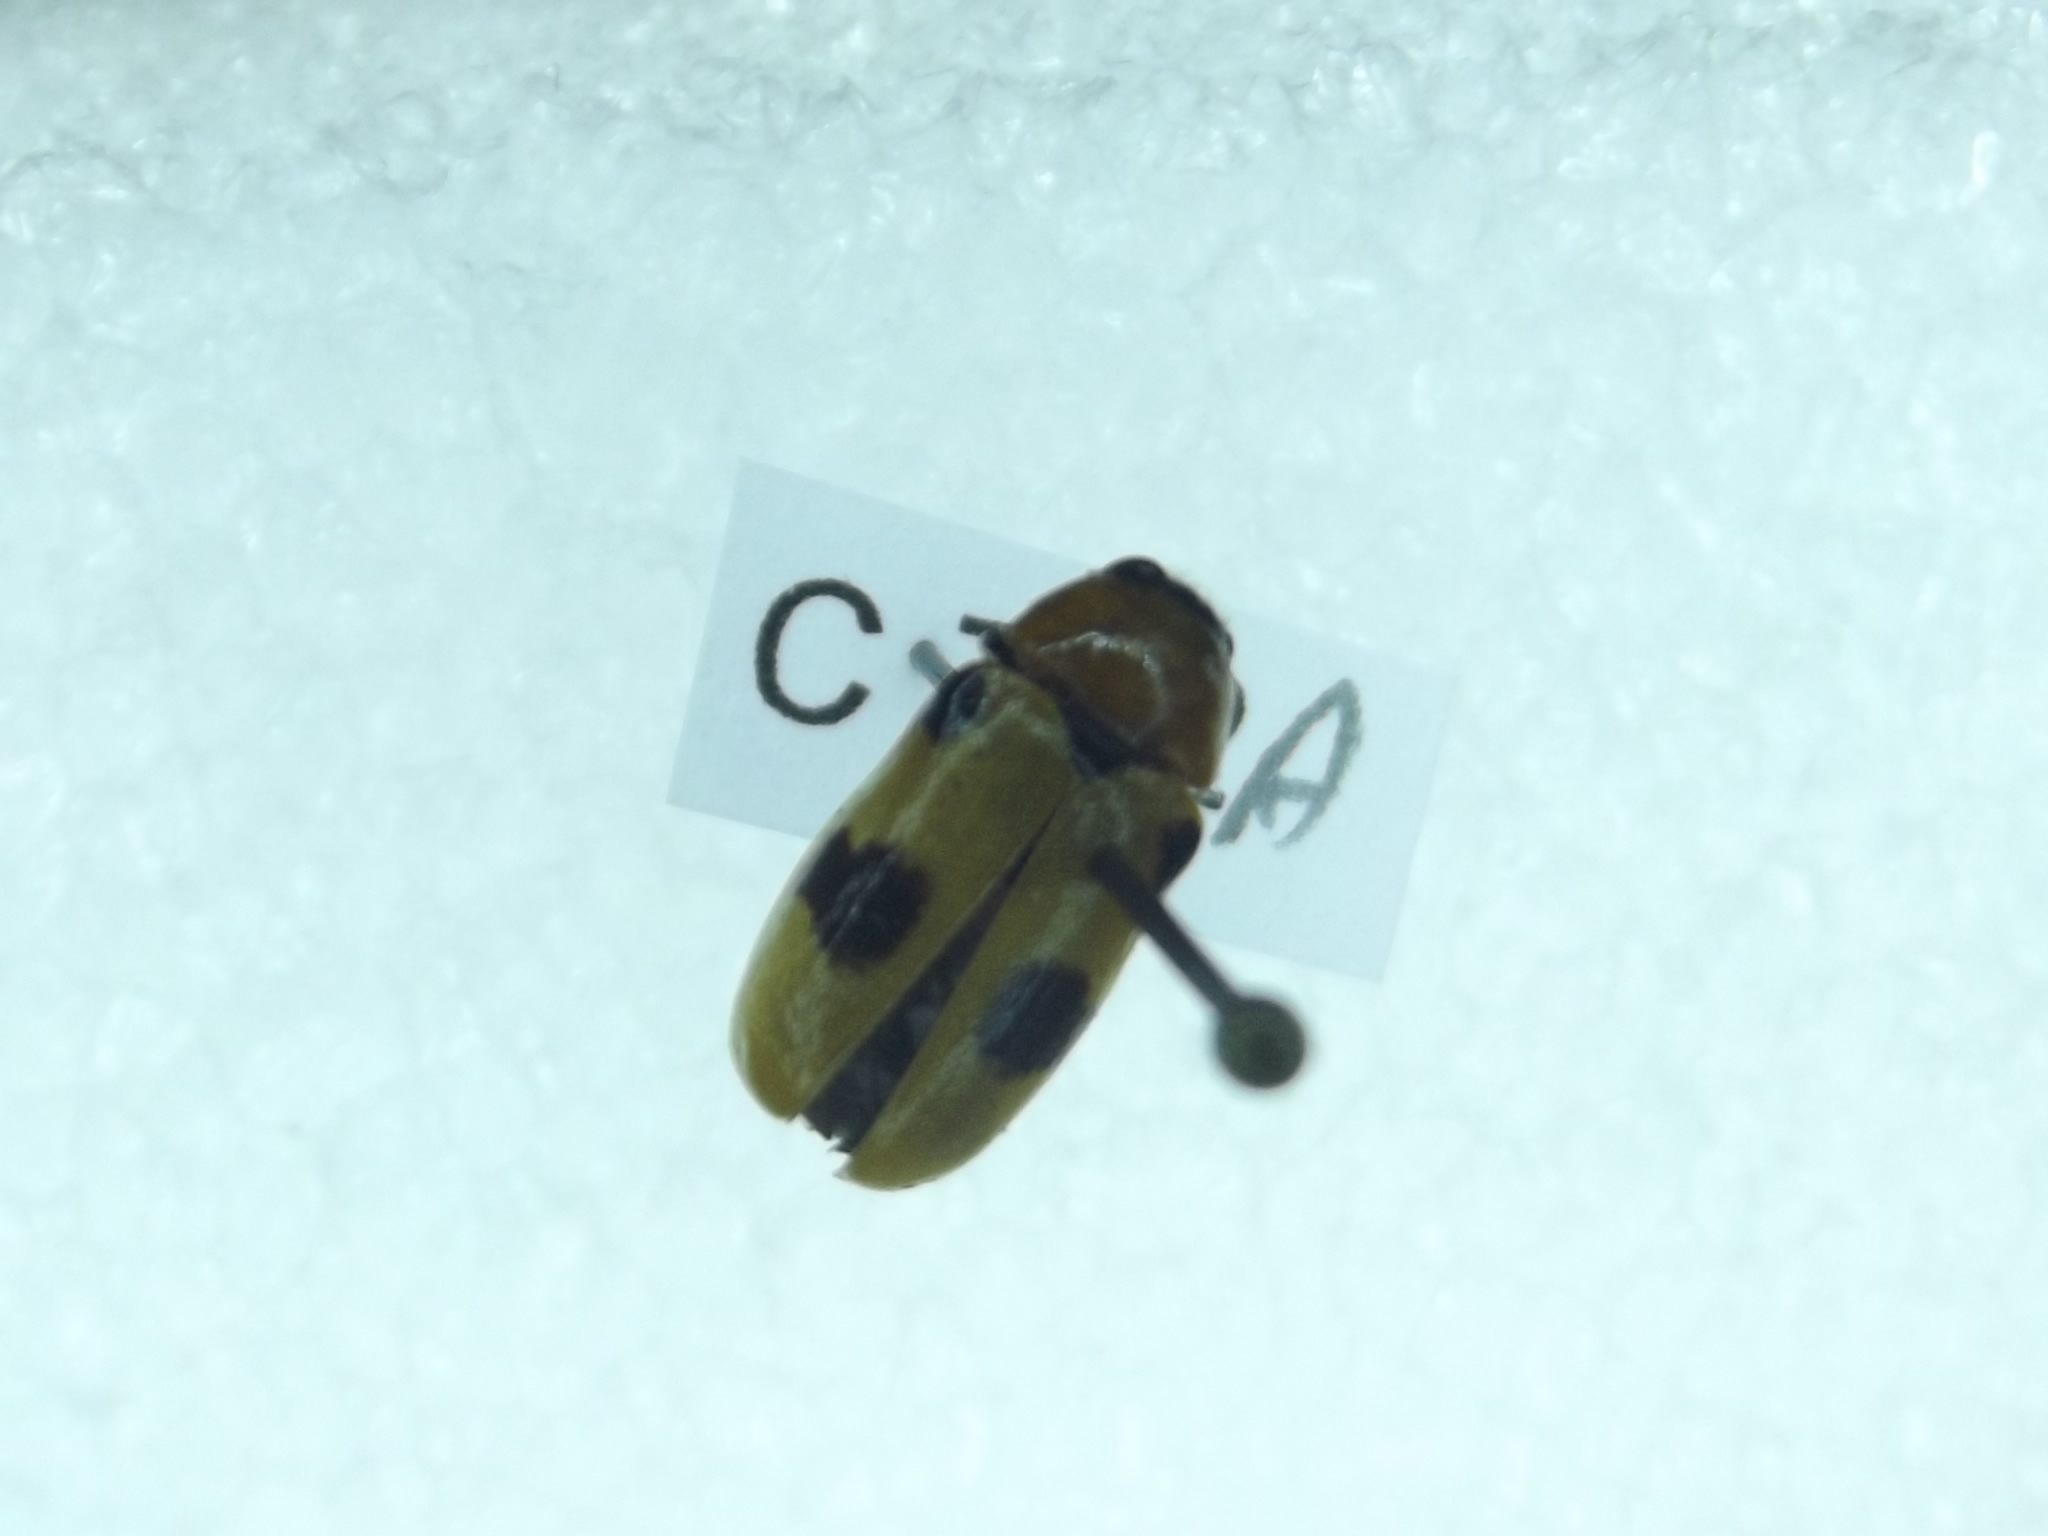Tituboea_macropus: (697, 544, 1248, 1200)
